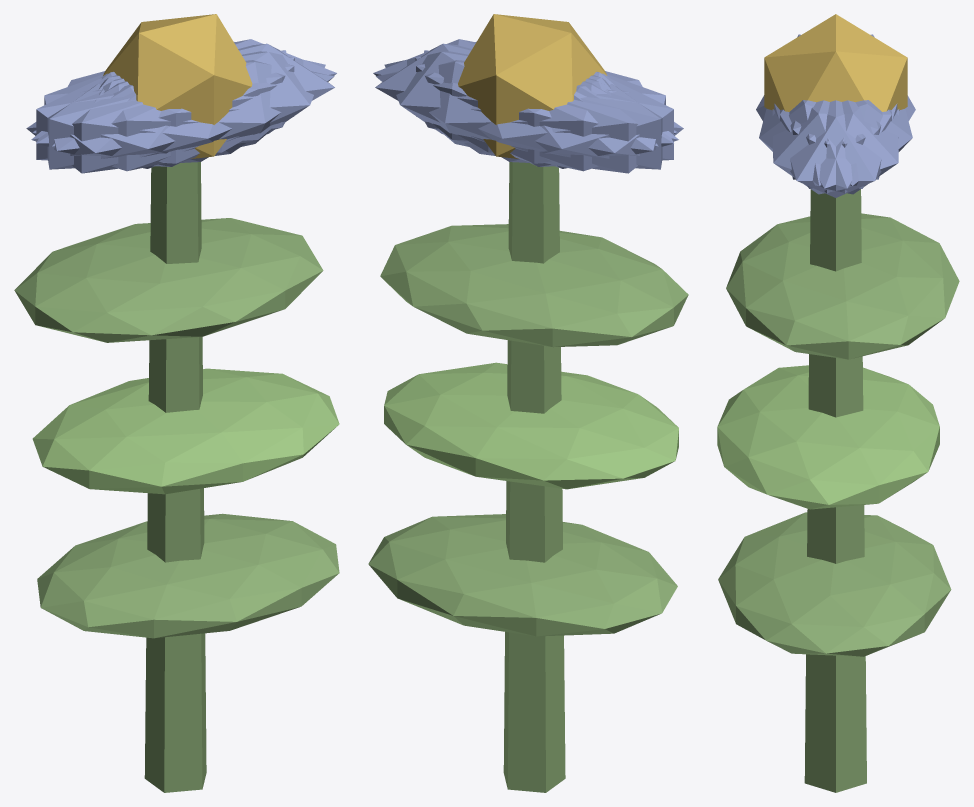
File: spiraea-cantoniensis.glb
The picture shows the model from 3 angles, left to right: view 1: azimuth 30°, elevation 25°; view 2: azimuth 150°, elevation 25°; view 3: azimuth 270°, elevation 25°; orthographic projection.
Parts seen in each view (by area): view 1: leaf1, leaf2, leaf0, stem, center, petal1, petal6, petal2, petal5, petal7, petal0, petal4 (+2 smaller); view 2: leaf2, leaf0, leaf1, stem, center, petal8, petal3, petal7, petal4, petal2, petal0, petal5 (+2 smaller); view 3: leaf2, leaf0, leaf1, stem, center, petal0, petal4, petal5, petal8, petal1.
Part boxes in pixels (box(x1,y1,x2,y2)): leaf1: box(32, 368, 339, 494); leaf2: box(14, 218, 323, 342); leaf0: box(37, 513, 339, 638); stem: box(144, 162, 206, 792); center: box(103, 14, 252, 158); petal1: box(31, 60, 334, 171); petal6: box(26, 73, 245, 173); petal2: box(47, 50, 286, 169); petal5: box(52, 51, 325, 163); petal7: box(36, 56, 294, 166); petal0: box(102, 43, 334, 152); petal4: box(32, 39, 336, 143); leaf2: box(380, 224, 688, 347); leaf0: box(368, 514, 677, 636); leaf1: box(384, 362, 678, 489); stem: box(503, 162, 565, 792); center: box(458, 14, 607, 158); petal8: box(376, 60, 678, 171); petal3: box(464, 73, 683, 173); petal7: box(424, 50, 662, 169); petal4: box(384, 51, 658, 163); petal2: box(415, 56, 673, 166); petal0: box(375, 43, 607, 152); petal5: box(373, 39, 677, 143); leaf2: box(726, 213, 959, 359); leaf0: box(718, 512, 951, 656); leaf1: box(717, 365, 939, 509); stem: box(804, 189, 866, 792); center: box(764, 14, 907, 111); petal0: box(774, 100, 897, 197); petal4: box(780, 100, 899, 194); petal5: box(772, 100, 891, 194); petal8: box(790, 100, 912, 185); petal1: box(759, 100, 881, 185).
Size of the model in its own units: 0.1452 by 0.352 by 0.1036.
